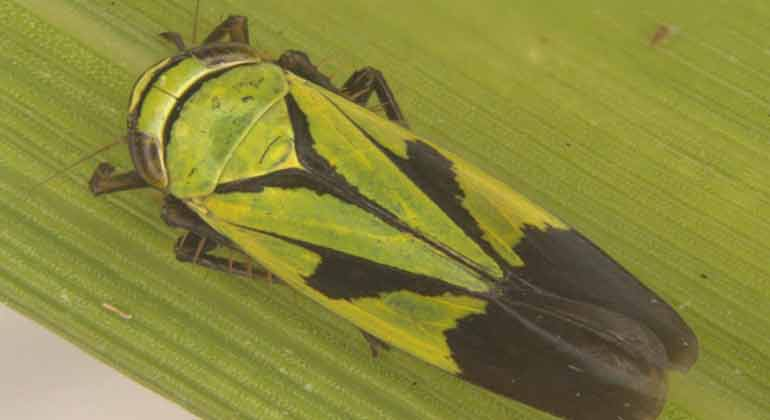Brown_plant_leafhopper: (134, 42, 699, 416)
